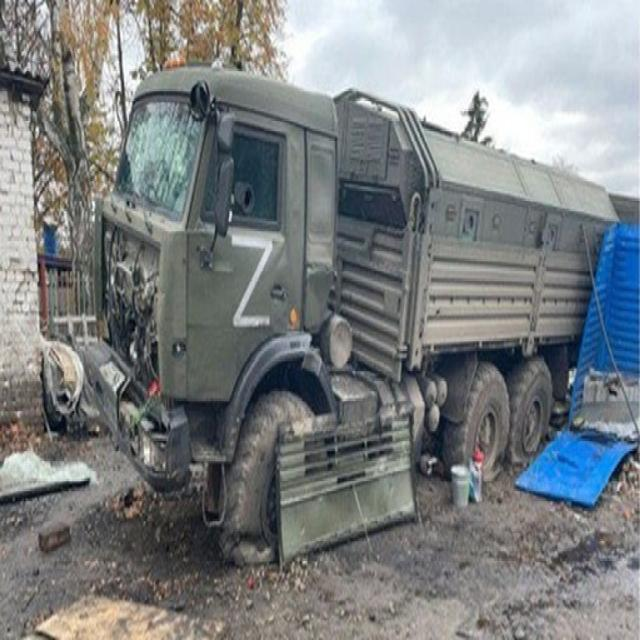TRUCK: (78, 40, 620, 564)
